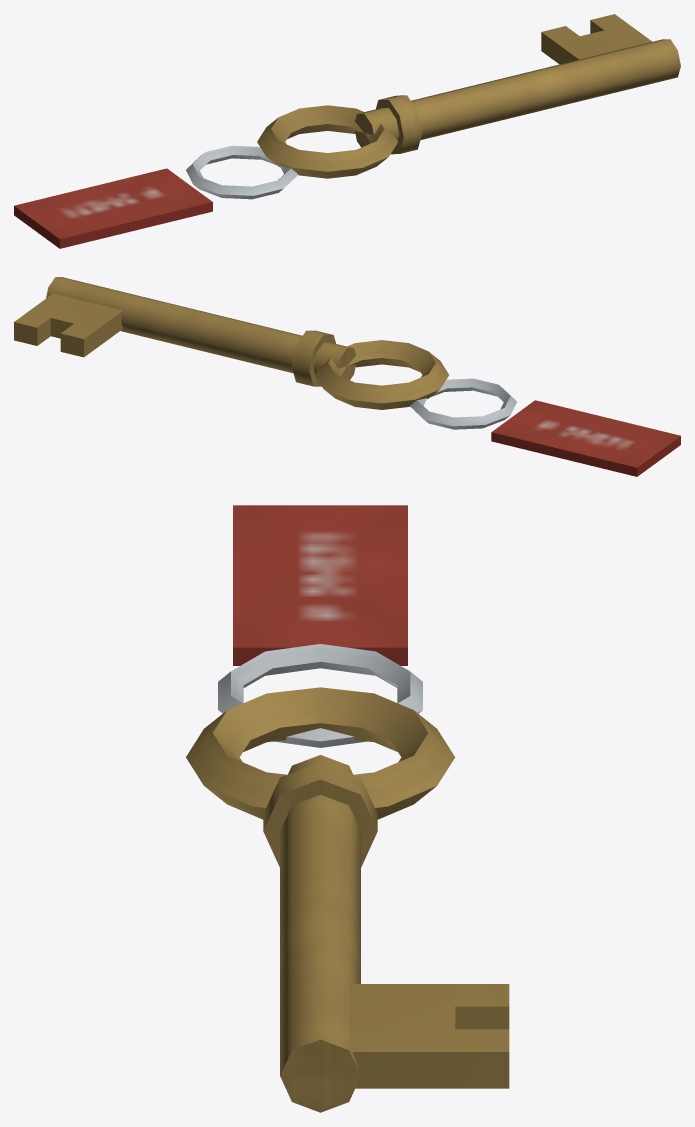
The model's file is prison_key.fbx.
3 views of the same model, one above another, from view 1: azimuth 30°, elevation 25°; view 2: azimuth 150°, elevation 25°; view 3: azimuth 270°, elevation 25° (orthographic). The views are drawn at different scales.
Visible parts, largest first — view 1: prison_key; view 2: prison_key; view 3: prison_key.
Boxes of the visible parts, x1,y1,x2,y2 form: prison_key: (14,14,680,248); prison_key: (14,277,680,476); prison_key: (186,505,509,1112).
Bounding box in the file's own units: 0.207 × 0.017 × 0.048.
Materials: 1 (1 with a texture image).
